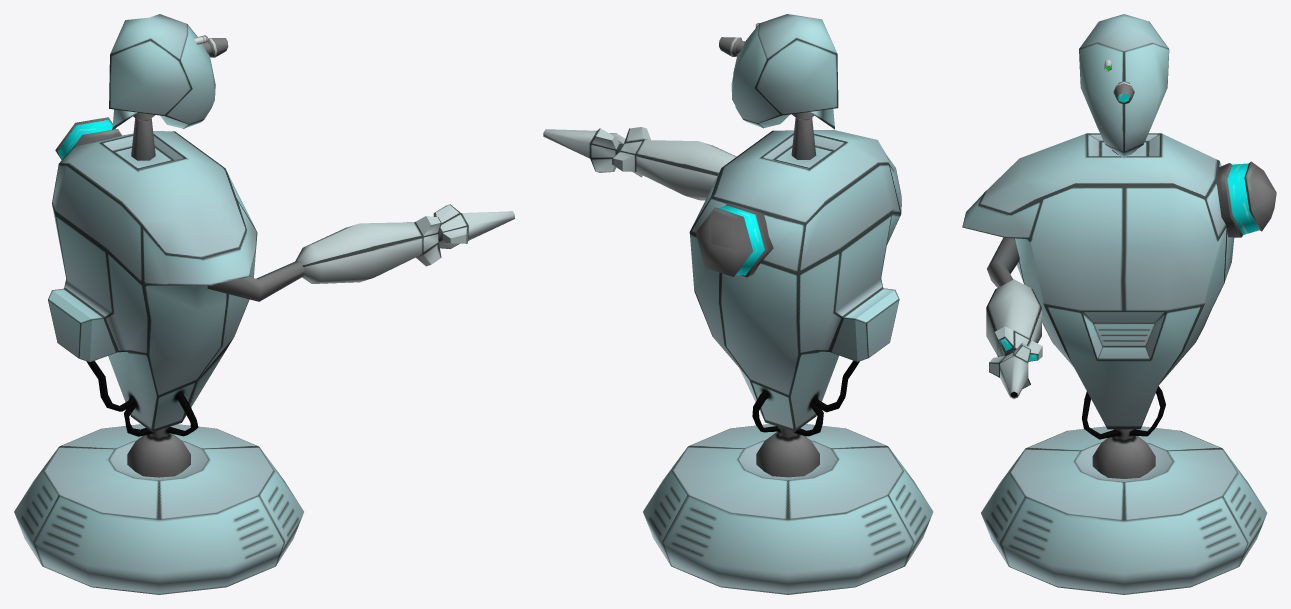
The model's file is synthScoutV3.fbx.
The picture shows the model from 3 angles, left to right: view 1: azimuth 30°, elevation 25°; view 2: azimuth 150°, elevation 25°; view 3: azimuth 270°, elevation 25°; orthographic projection.
Parts seen in each view (by area): view 1: scoutBody, hoverSection, head, rifle, ballJoint, extendingBarrel, arm, ammoBattery, neck; view 2: scoutBody, hoverSection, head, rifle, ammoBattery, ballJoint, extendingBarrel, neck, nurbsToSubd1; view 3: scoutBody, hoverSection, head, ammoBattery, rifle, ballJoint, extendingBarrel, arm, nurbsToSubd3.
Part boxes in pixels (left/top/right/bottom): scoutBody: left=48, top=131, right=257, bottom=432; hoverSection: left=14, top=424, right=303, bottom=594; head: left=109, top=14, right=215, bottom=129; rifle: left=295, top=216, right=441, bottom=283; ballJoint: left=127, top=433, right=190, bottom=477; extendingBarrel: left=433, top=204, right=514, bottom=248; arm: left=207, top=261, right=305, bottom=301; ammoBattery: left=55, top=117, right=121, bottom=160; neck: left=131, top=112, right=155, bottom=160; scoutBody: left=689, top=130, right=901, bottom=431; hoverSection: left=643, top=424, right=933, bottom=594; head: left=731, top=14, right=838, bottom=129; rifle: left=612, top=127, right=736, bottom=200; ammoBattery: left=695, top=203, right=773, bottom=277; ballJoint: left=756, top=432, right=819, bottom=477; extendingBarrel: left=543, top=128, right=625, bottom=172; neck: left=791, top=112, right=816, bottom=159; nurbsToSubd1: left=812, top=360, right=859, bottom=412; scoutBody: left=962, top=133, right=1234, bottom=429; hoverSection: left=981, top=426, right=1267, bottom=594; head: left=1079, top=14, right=1169, bottom=158; ammoBattery: left=1216, top=161, right=1276, bottom=237; rifle: left=986, top=279, right=1042, bottom=361; ballJoint: left=1092, top=436, right=1155, bottom=478; extendingBarrel: left=989, top=343, right=1030, bottom=399; arm: left=987, top=237, right=1019, bottom=287; nurbsToSubd3: left=1082, top=391, right=1118, bottom=439.
Bounding box in the file's own units: 2.28 × 2.69 × 1.49.
Materials: 2 (1 with a texture image).
